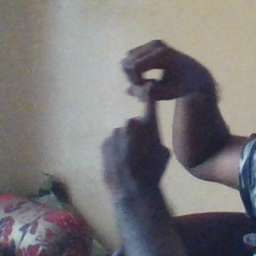Q: (96, 39, 197, 187)
